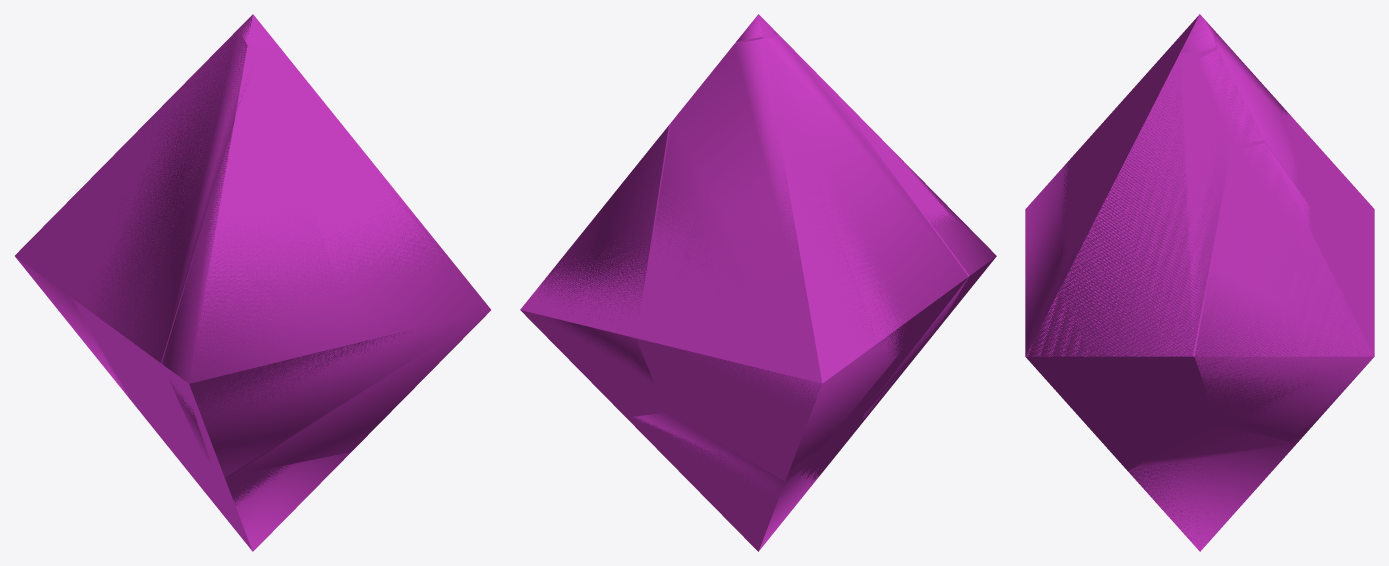
Rendered from cuboidpieces.fbx.
3 renders of one model, left to right at view 1: azimuth 30°, elevation 25°; view 2: azimuth 150°, elevation 25°; view 3: azimuth 270°, elevation 25°, orthographic.
Parts seen in each view (by area): view 1: Cuboid, Cuboid_cell.001, Cuboid_cell.002, Cuboid_cell.004; view 2: Cuboid, Cuboid_cell.002, Cuboid_cell, Cuboid_cell.004, Cuboid_cell.001; view 3: Cuboid, Cuboid_cell.001, Cuboid_cell, Cuboid_cell.004, Cuboid_cell.002, Cuboid_cell.003.
Part boxes in pixels (bbox=[...]): Cuboid: bbox=[15, 14, 486, 551]; Cuboid_cell.001: bbox=[162, 126, 490, 477]; Cuboid_cell.002: bbox=[15, 31, 260, 400]; Cuboid_cell.004: bbox=[233, 452, 350, 551]; Cuboid: bbox=[520, 14, 996, 551]; Cuboid_cell.002: bbox=[653, 36, 968, 480]; Cuboid_cell: bbox=[538, 125, 668, 384]; Cuboid_cell.004: bbox=[633, 412, 820, 551]; Cuboid_cell.001: bbox=[837, 94, 996, 417]; Cuboid: bbox=[1026, 14, 1374, 527]; Cuboid_cell.001: bbox=[1025, 57, 1231, 356]; Cuboid_cell: bbox=[1194, 142, 1374, 442]; Cuboid_cell.004: bbox=[1128, 426, 1296, 551]; Cuboid_cell.002: bbox=[1197, 27, 1297, 186]; Cuboid_cell.003: bbox=[1180, 14, 1216, 53].
Bounding box in the file's own units: 48.99 × 83.28 × 48.99.
